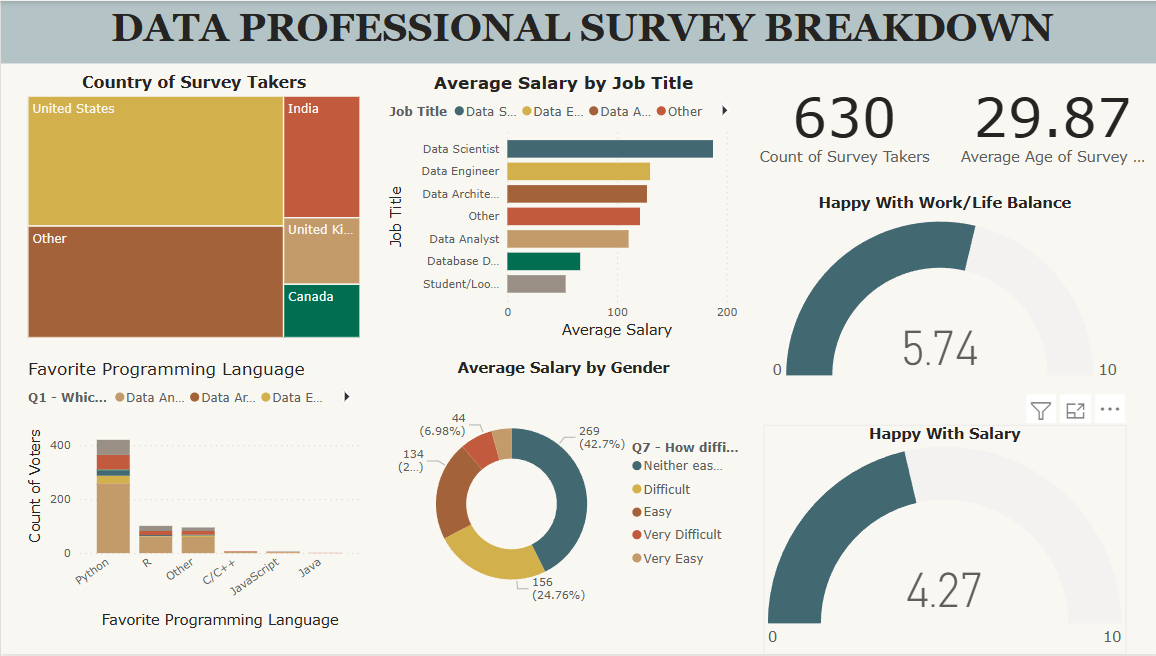

Layout of this report page (visuals, bound fields, positions):
{"tool":"powerbi","page":{"name":"Page 1","canvas":[1280,720],"ordinal":0},"visuals":[{"type":"textbox","box":[0,0,1280,68.6],"z":0},{"type":"card","fields":{"Values":["Count(Data Professional Survey.Unique ID)"]},"box":[825.8,78.5,206.5,110.1],"z":1000},{"type":"card","fields":{"Values":["Avg(Data Professional Survey.Q10 - Current Age)"]},"box":[1048.8,78.5,218.8,110.1],"z":2000},{"type":"barChart","title":"Average Salary by Job Title","fields":{"Category":["Data Professional Survey.Q1 - Which Title Best Fits your Current Role?.1"],"Y":["Avg(Data Professional Survey.Average Salary)"],"Series":["Data Professional Survey.Q1 - Which Title Best Fits your Current Role?.1"]},"box":[422.5,78.5,393.6,297.3],"z":3000},{"type":"columnChart","title":"Favorite Programming Language","fields":{"Category":["Data Professional Survey.Q5 - Favorite Programming Language.1"],"Y":["CountNonNull(Data Professional Survey.Unique ID)"],"Series":["Data Professional Survey.Q1 - Which Title Best Fits your Current Role?.1"]},"box":[24.8,393.6,375.7,301.4],"z":4000},{"type":"treemap","title":"Country of Survey Takers","fields":{"Group":["Data Professional Survey.Q11 - Which Country do you live in?.1"],"Values":["CountNonNull(Data Professional Survey.Q11 - Which Country do you live in?.1)"]},"box":[24.8,78.5,375.7,297.3],"z":5000},{"type":"gauge","title":"Happy With Work/Life Balance","fields":{"Y":["Avg(Data Professional Survey.Q6 - How Happy are you in your Current Position with the following? (Work/Life Balance))"],"MinValue":["Min(Data Professional Survey.Q6 - How Happy are you in your Current Position with the following? (Work/Life Balance))1"],"MaxValue":["Max(Data Professional Survey.Q6 - How Happy are you in your Current Position with the following? (Work/Life Balance))2"]},"box":[839.6,212,399.1,217.5],"z":6000},{"type":"gauge","title":"Happy With Salary","fields":{"Y":["Avg(Data Professional Survey.Q6 - How Happy are you in your Current Position with the following? (Salary))"],"MinValue":["Min(Data Professional Survey.Q6 - How Happy are you in your Current Position with the following? (Salary))"],"MaxValue":["Max(Data Professional Survey.Q6 - How Happy are you in your Current Position with the following? (Salary))"]},"box":[839.6,466.6,399.1,253.2],"z":7000},{"type":"donutChart","title":"Average Salary by Gender","fields":{"Category":["Data Professional Survey.Q7 - How difficult was it for you to break into Data?"],"Y":["CountNonNull(Data Professional Survey.Q7 - How difficult was it for you to break into Data?)"]},"box":[425.3,393.6,388.1,301.4],"z":8000}]}

Visuals, with their boxes in screenshot pixels (x1, y1, x2, y2), scaled from the page's 1280x720 canvas onto the 1156x656 screenshot:
textbox: 0, 0, 1155, 63
card - Count(Data Professional Survey.Unique ID): 746, 72, 932, 172
card - Avg(Data Professional Survey.Q10 - Current Age): 947, 72, 1145, 172
"Average Salary by Job Title" barChart: 382, 72, 737, 342
"Favorite Programming Language" columnChart: 22, 359, 362, 633
"Country of Survey Takers" treemap: 22, 72, 362, 342
"Happy With Work/Life Balance" gauge: 758, 193, 1119, 391
"Happy With Salary" gauge: 758, 425, 1119, 655
"Average Salary by Gender" donutChart: 384, 359, 735, 633
